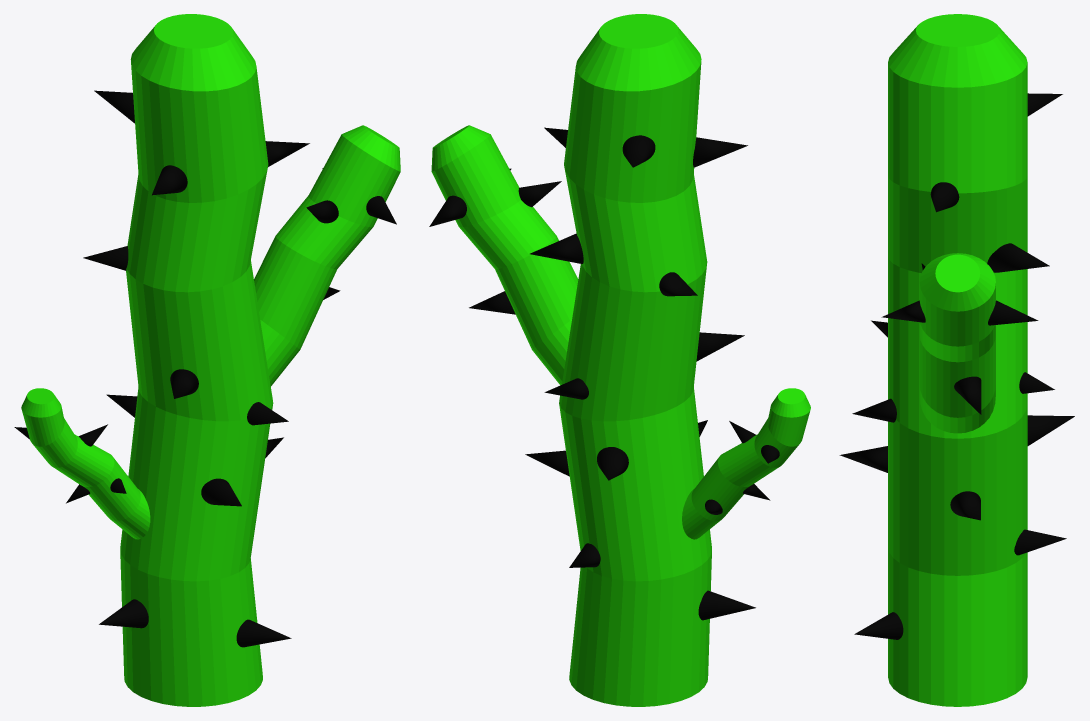
File: Cactus3.glb
3 views of the same model, side by side, from view 1: azimuth 30°, elevation 25°; view 2: azimuth 150°, elevation 25°; view 3: azimuth 270°, elevation 25° (orthographic).
Visible parts, largest first — view 1: Cylinder, Cone; view 2: Cylinder, Cone; view 3: Cylinder, Cone.
Part boxes in pixels (bbox=[...]): Cylinder: bbox=[21, 14, 400, 706]; Cone: bbox=[14, 90, 396, 647]; Cylinder: bbox=[431, 14, 810, 706]; Cone: bbox=[429, 127, 779, 620]; Cylinder: bbox=[888, 14, 1027, 706]; Cone: bbox=[839, 93, 1074, 639].
Bounding box in the file's own units: 6.15 × 10.24 × 3.39.
